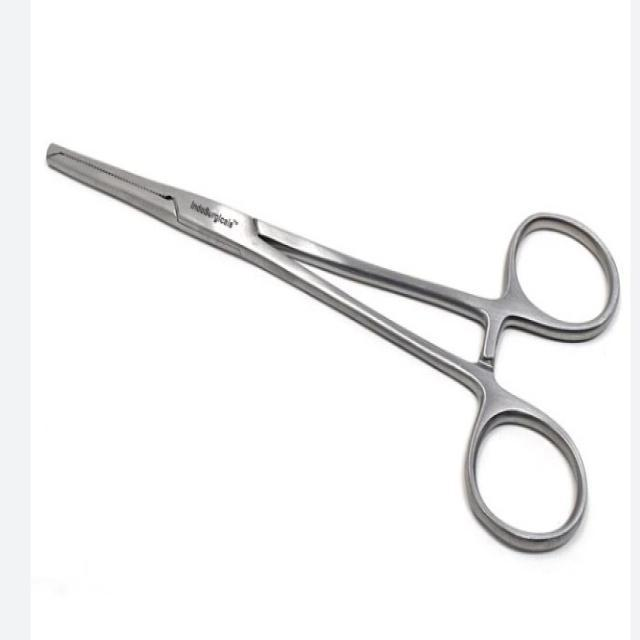Kocher Forceps: (42, 111, 620, 560)
